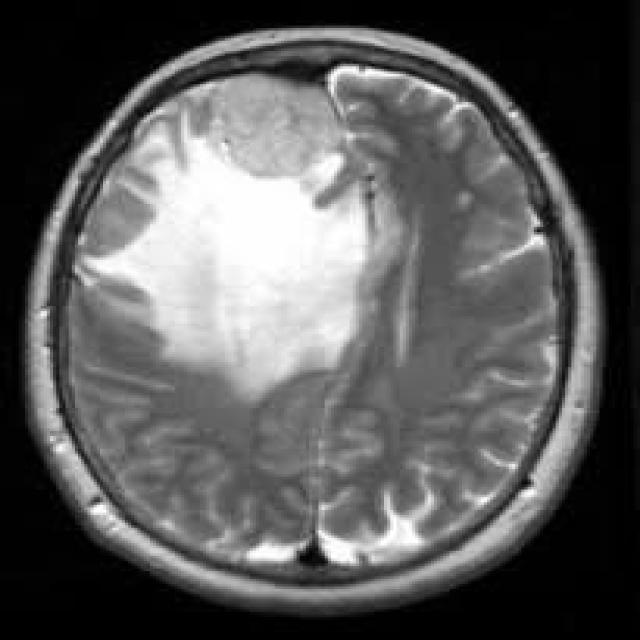Tumor: (87, 135, 366, 388)
